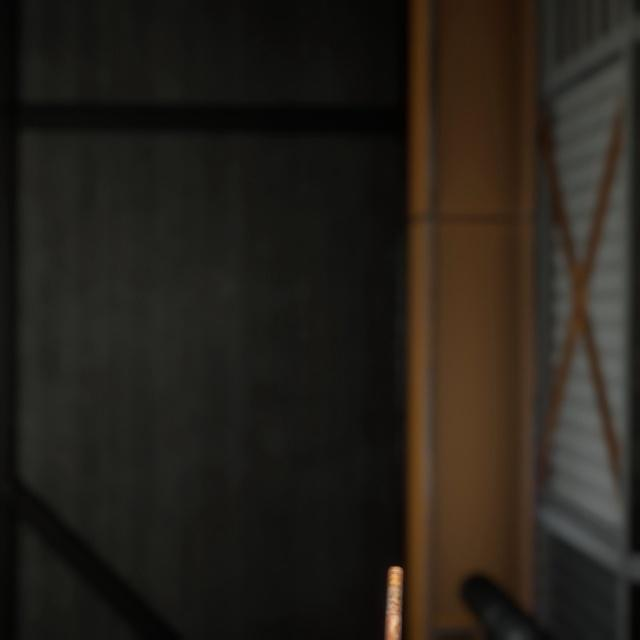bolt: (378, 539, 408, 640)
